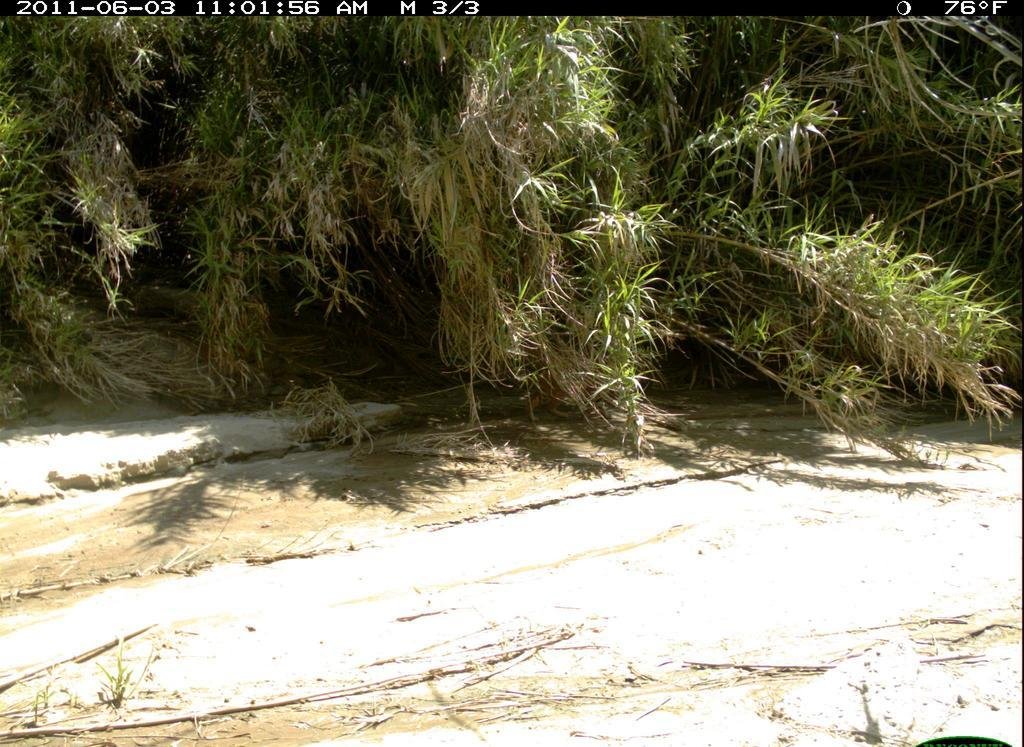bobcat: (525, 346, 638, 423)
